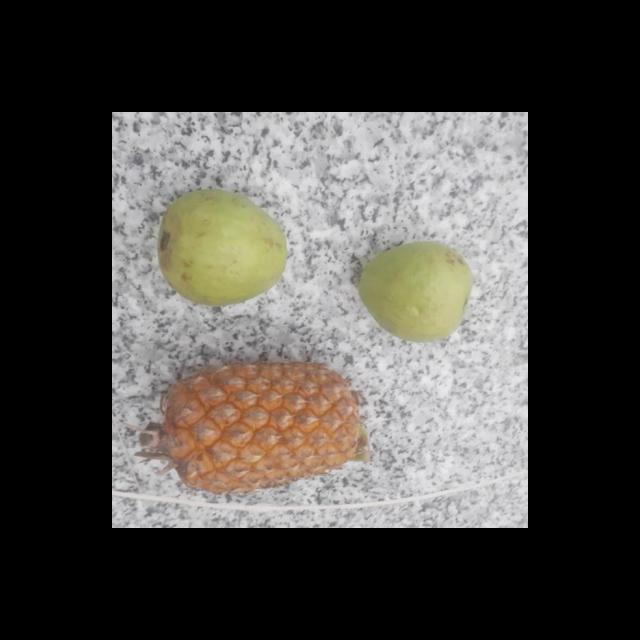guava: (154, 191, 286, 305), (353, 242, 474, 340)
pineapple: (154, 358, 374, 494)
